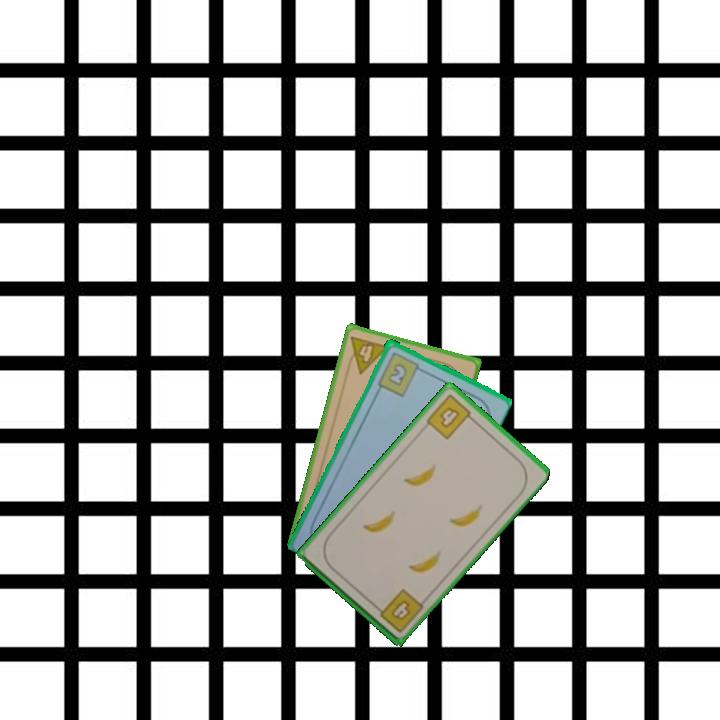2b: (374, 348, 427, 399)
4b: (422, 390, 478, 442), (371, 585, 426, 636)
4p: (343, 333, 391, 377)
